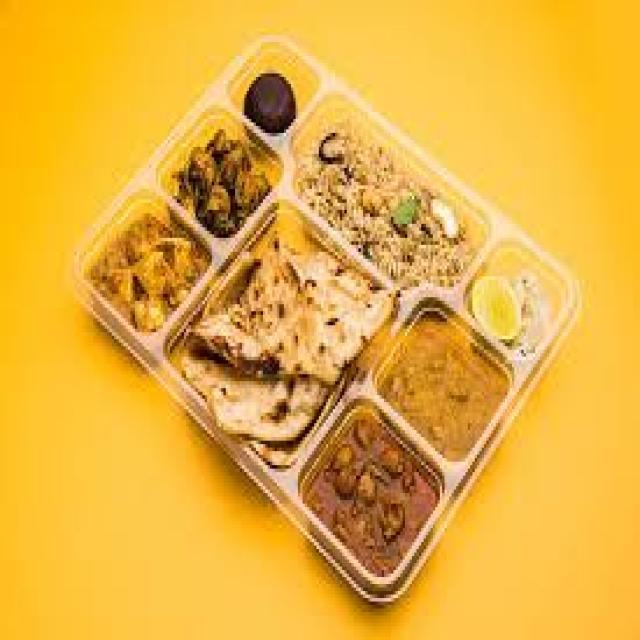dal: (373, 307, 514, 467)
roti: (204, 205, 384, 441)
sweet: (101, 203, 207, 350)
veg-fry: (304, 391, 441, 586)
